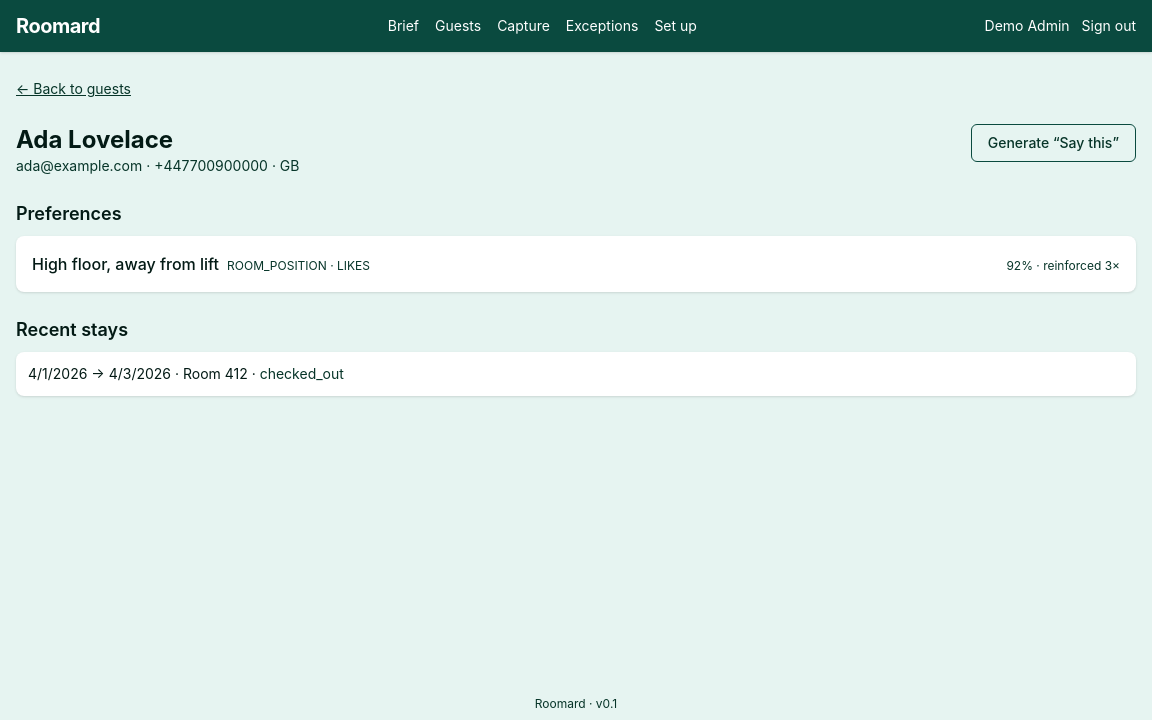
Test case: guest detail route › Generate "Say this" fetches and renders the suggestion card
This screenshot has width=1152, height=720.
Click the button with test id "say-this-button" at (1053, 143), box left=971, top=124, right=1136, bottom=162
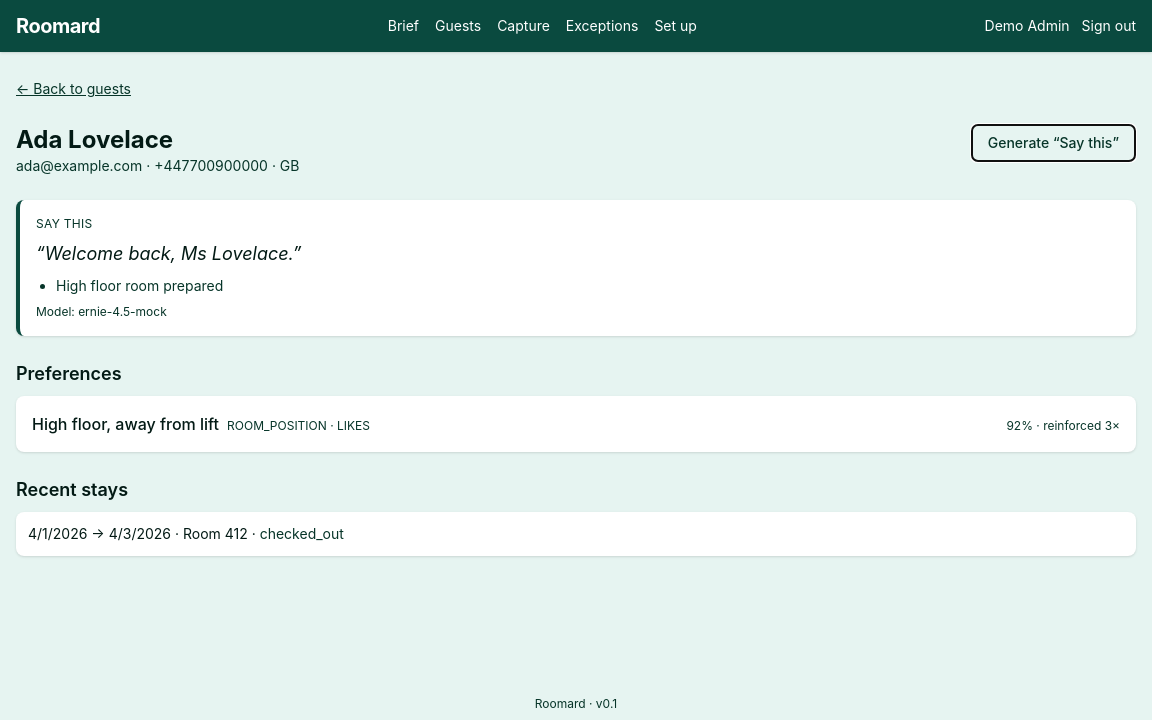
Expected: the element with test id "say-this-card" is shown, left=16, top=200, right=1136, bottom=336
Expected: the text "“Welcome back, Ms Lovelace.”" is shown, left=36, top=243, right=301, bottom=264
Expected: the text "Model: ernie-4.5-mock" is shown, left=36, top=304, right=167, bottom=319
